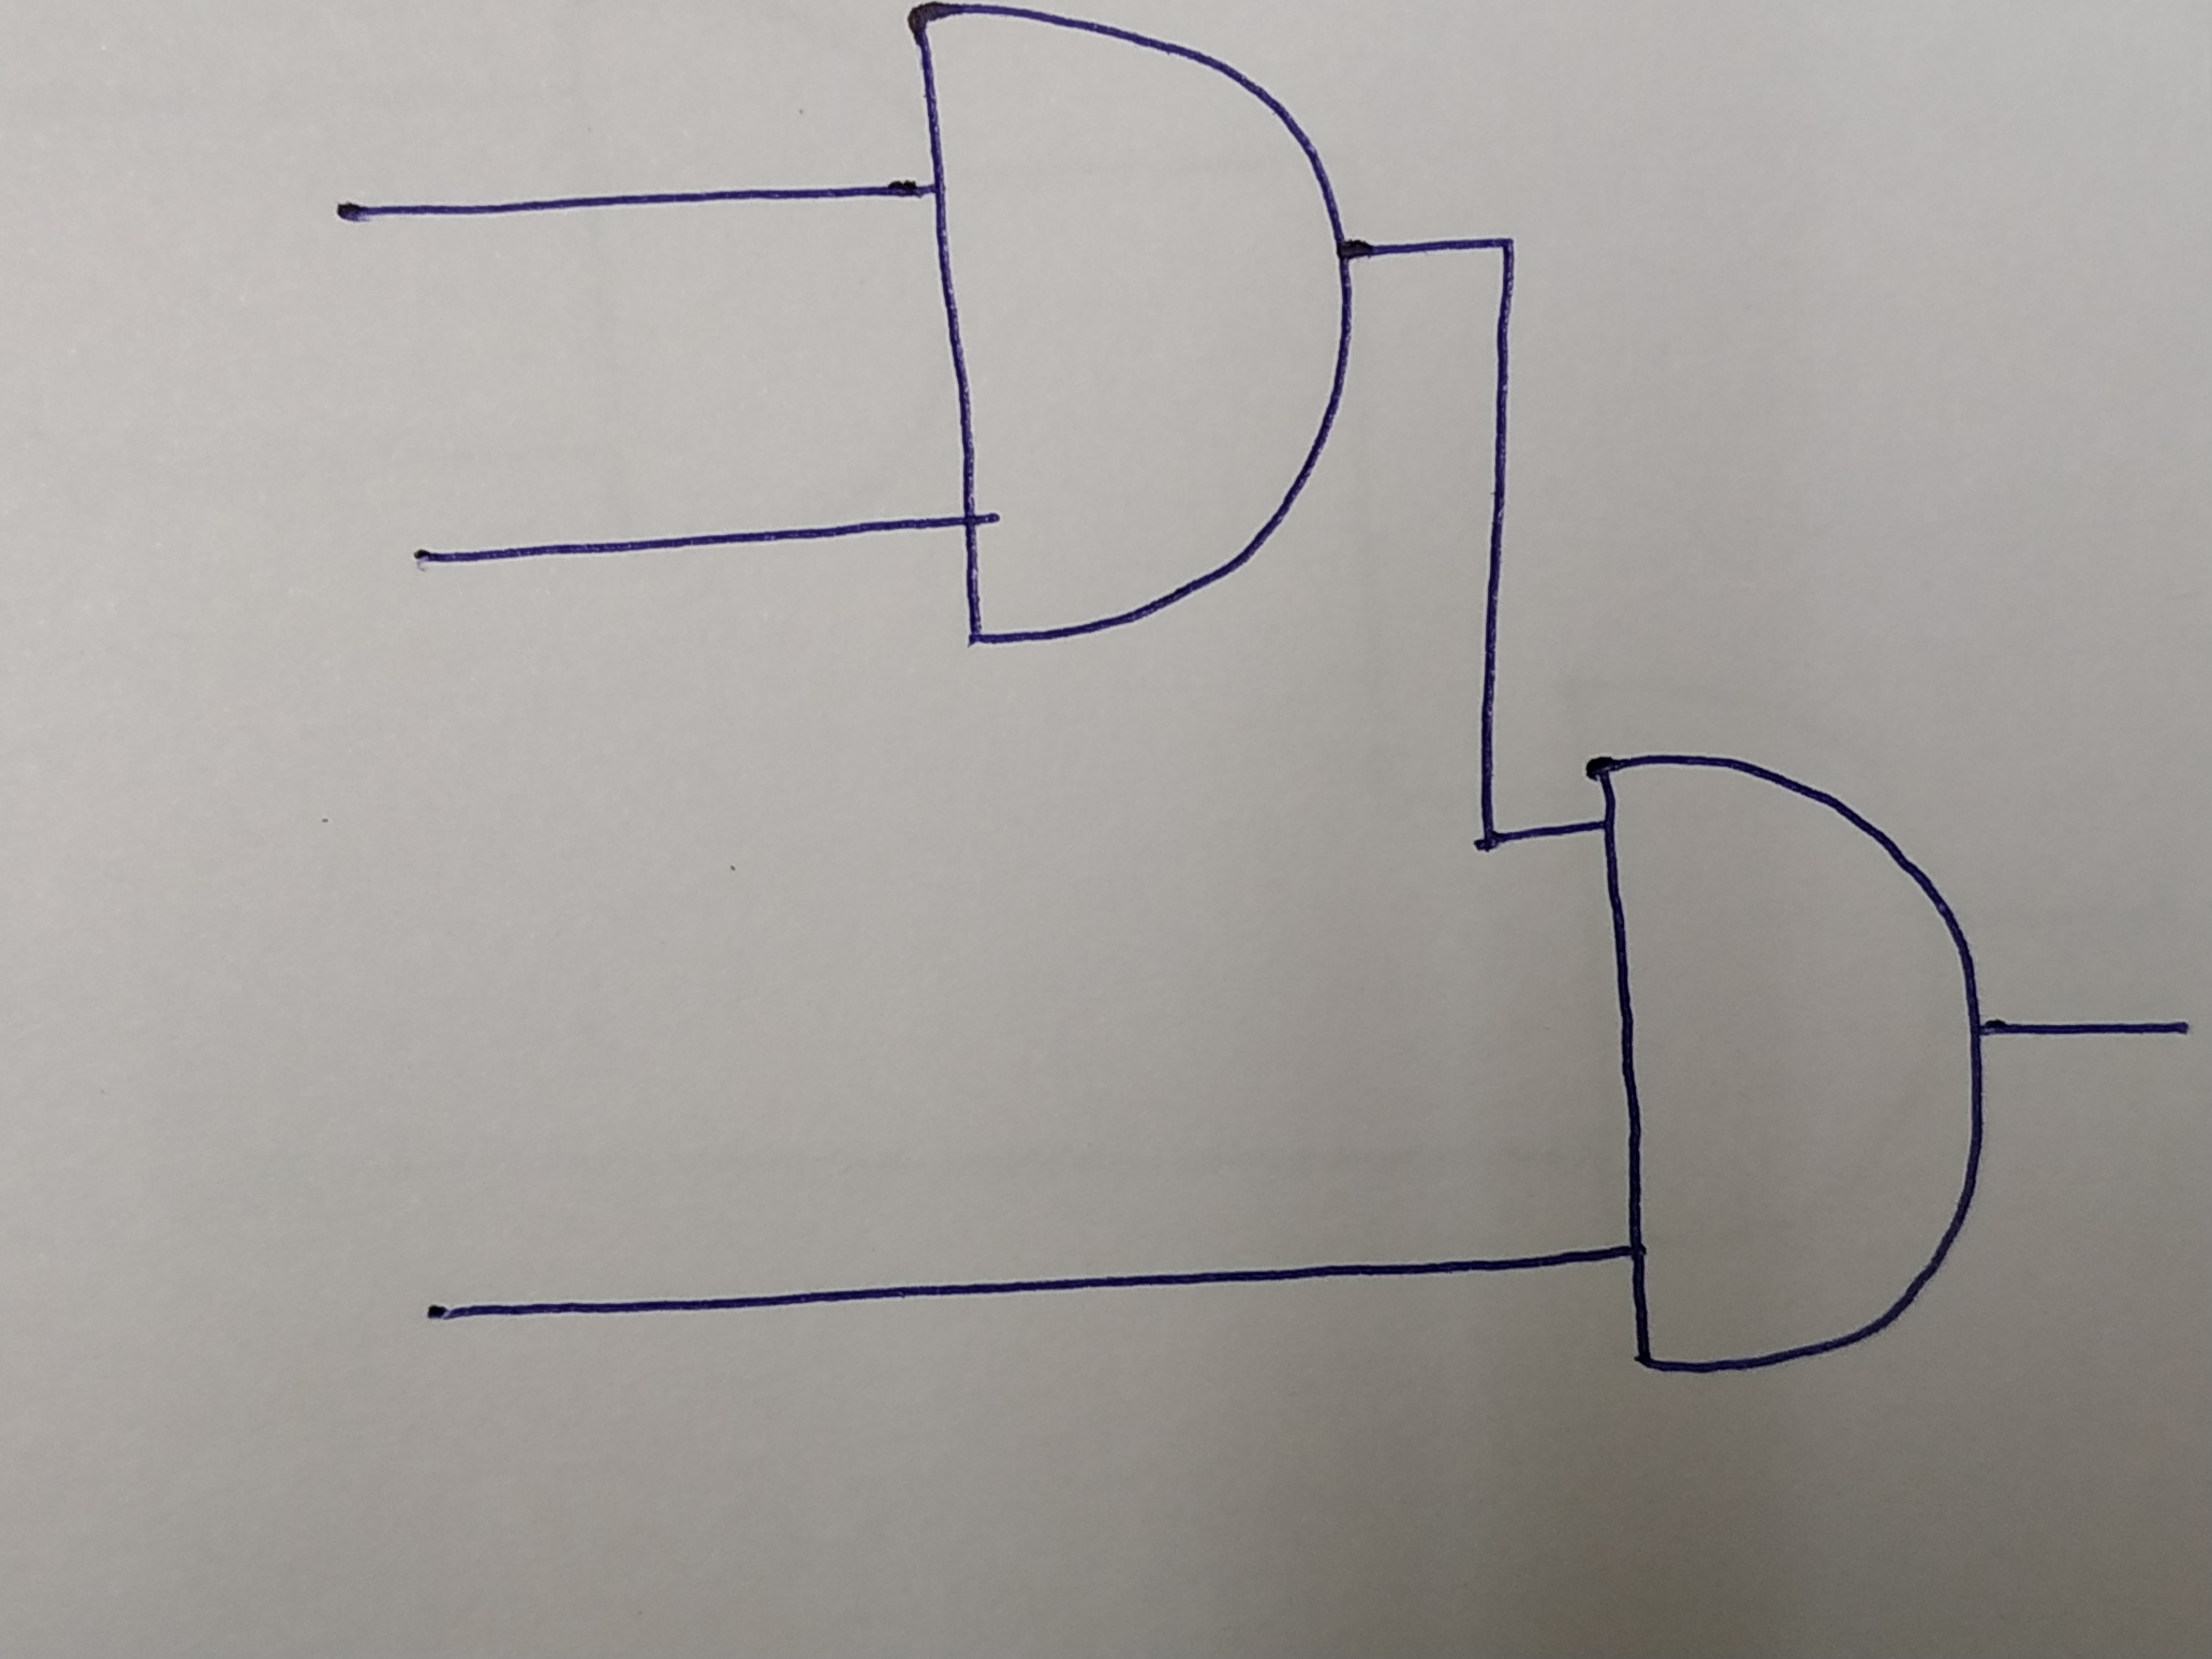and: (911, 3, 1348, 645), (1590, 758, 1986, 1375)
